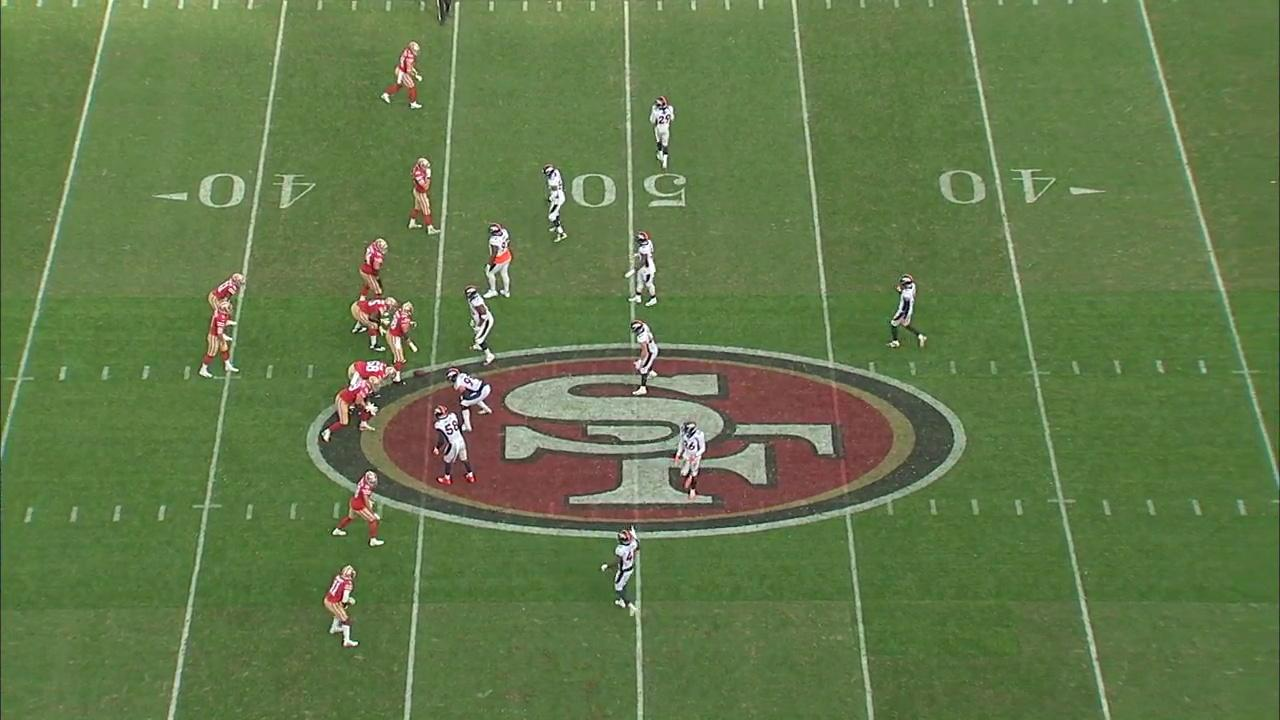player: (333, 471, 394, 553), (317, 375, 381, 453), (434, 406, 489, 491), (601, 527, 647, 621), (322, 567, 369, 651), (887, 274, 934, 353), (404, 159, 447, 241), (447, 365, 496, 433), (462, 285, 500, 369), (199, 302, 241, 377), (629, 323, 670, 396), (357, 231, 393, 310), (349, 291, 396, 351), (630, 232, 666, 309), (387, 42, 426, 113), (673, 421, 706, 503), (210, 270, 247, 343), (487, 223, 519, 306), (539, 167, 574, 241), (386, 296, 417, 374), (346, 359, 403, 395), (650, 93, 674, 174)
